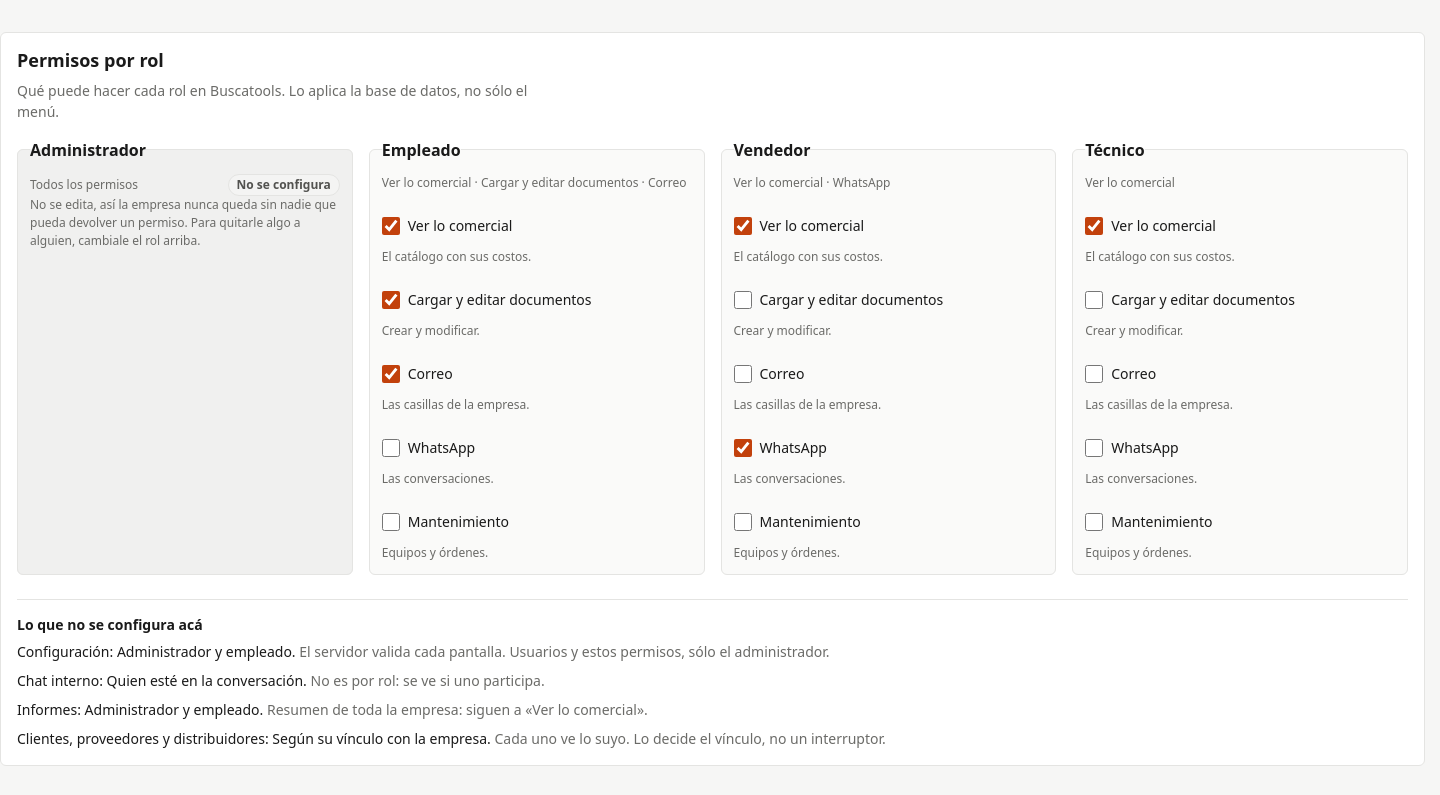
Test: editar y guardar › volver la casilla a como estaba hace desaparecer el botón: no hay nada que guardar
Click the checkbox labelled "Correo" below "Ver lo comercial · WhatsApp": (742, 374) [734, 364, 752, 382]
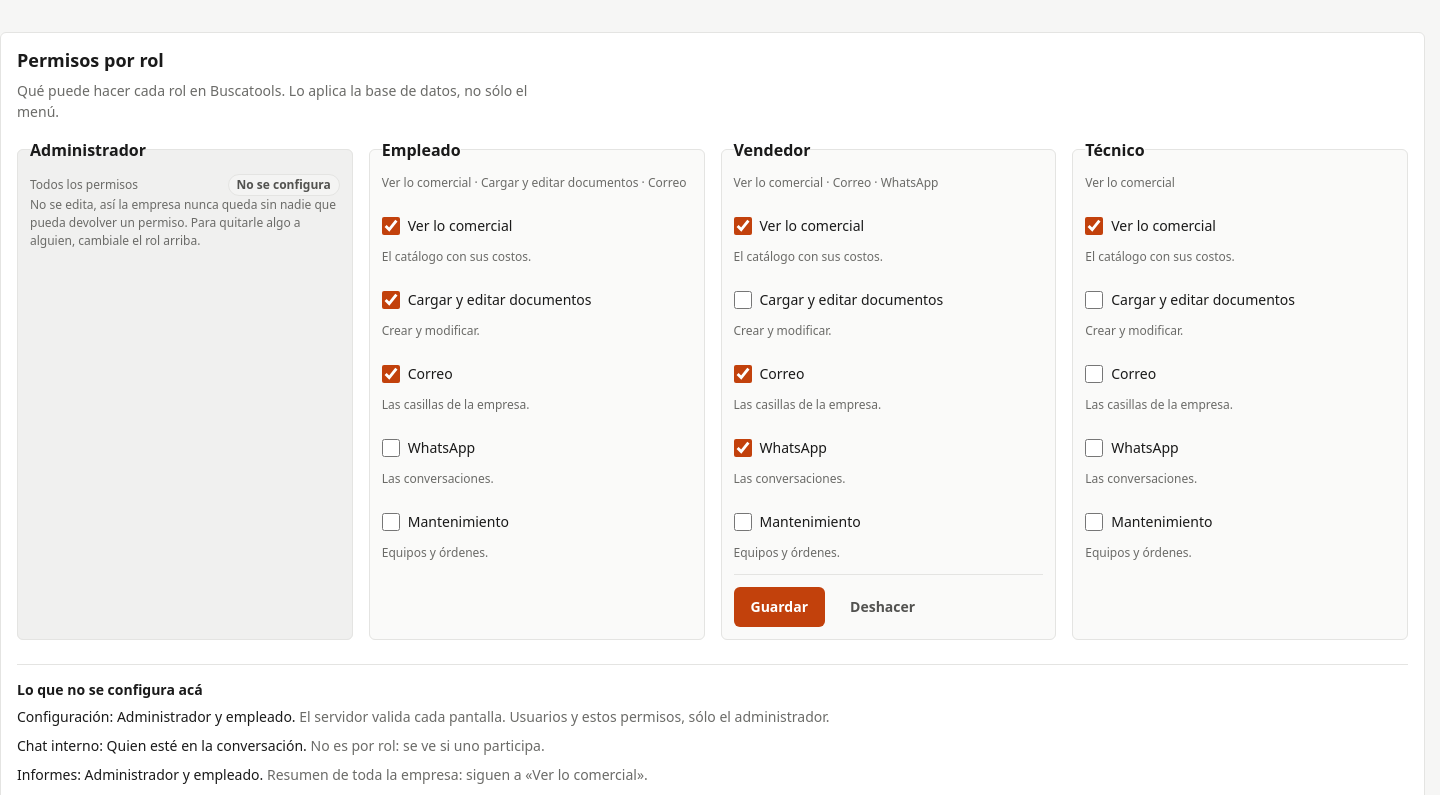
Expected: the button "Guardar" is shown, [734, 586, 825, 626]
Click the checkbox labelled "Correo" below "Ver lo comercial · Correo · WhatsApp": (742, 374) [734, 364, 752, 382]
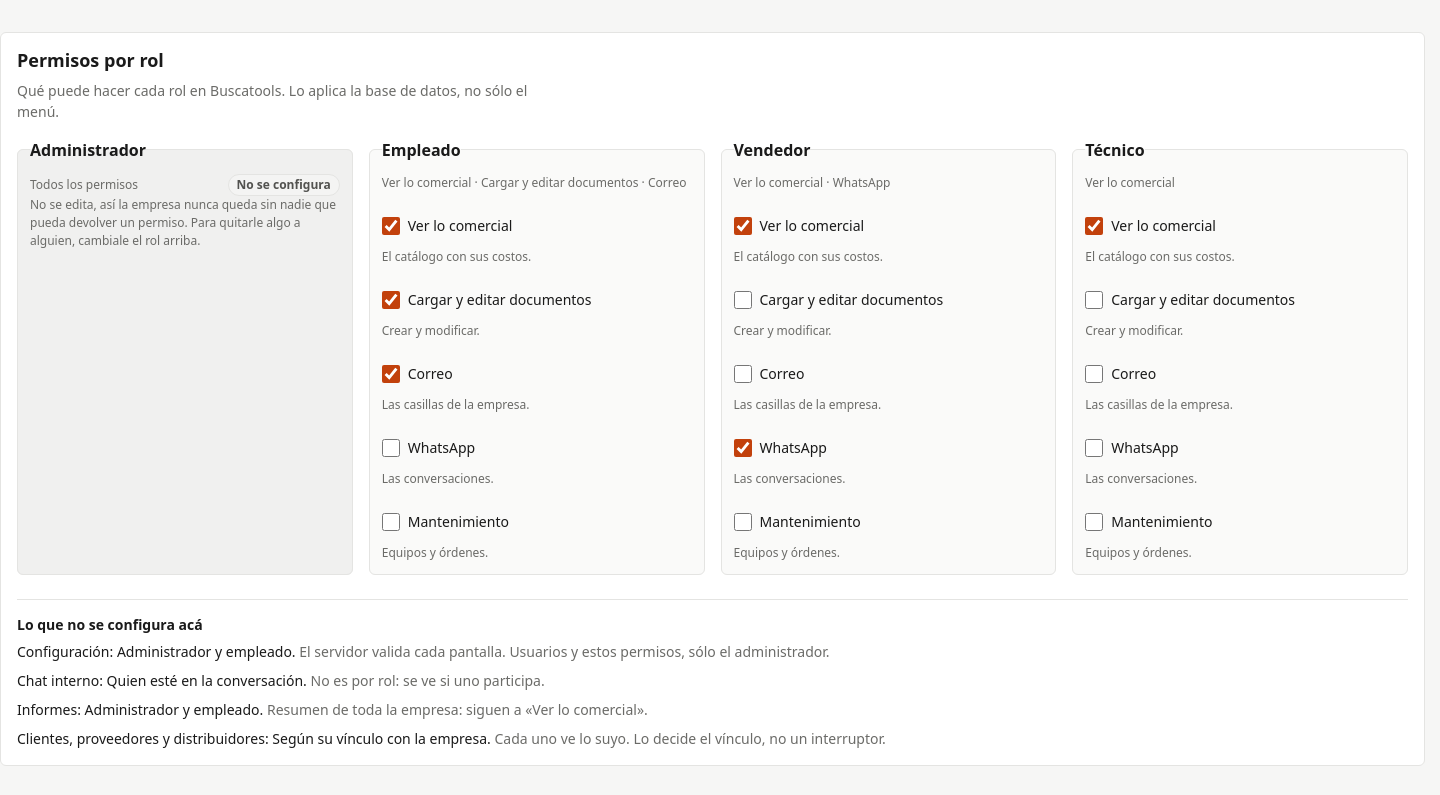
Expected: the button "Guardar" is gone
